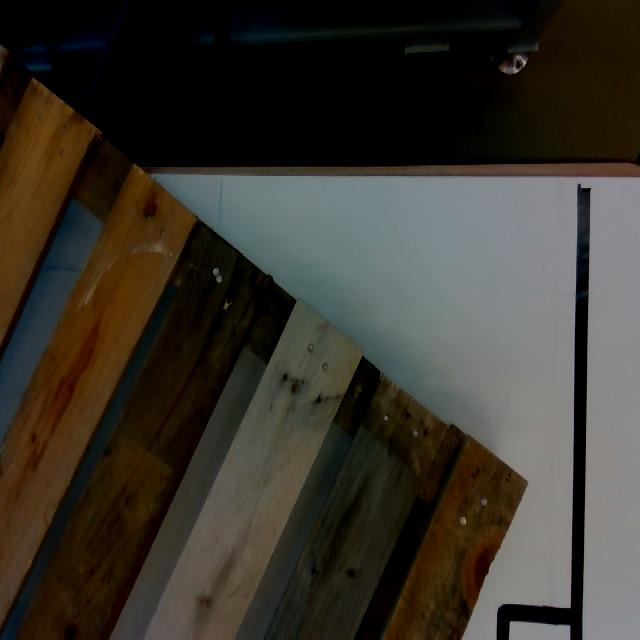pallet: (0, 61, 526, 640)
